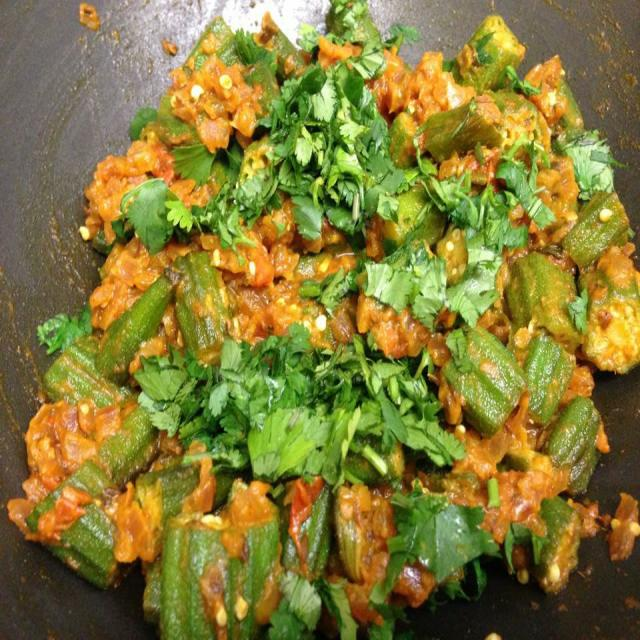BhindiMasala: (7, 1, 640, 639)
